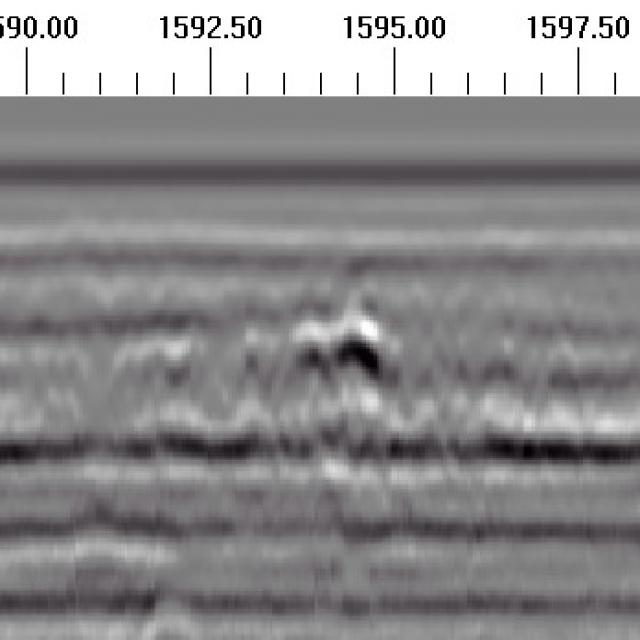loose: (292, 309, 390, 467)
